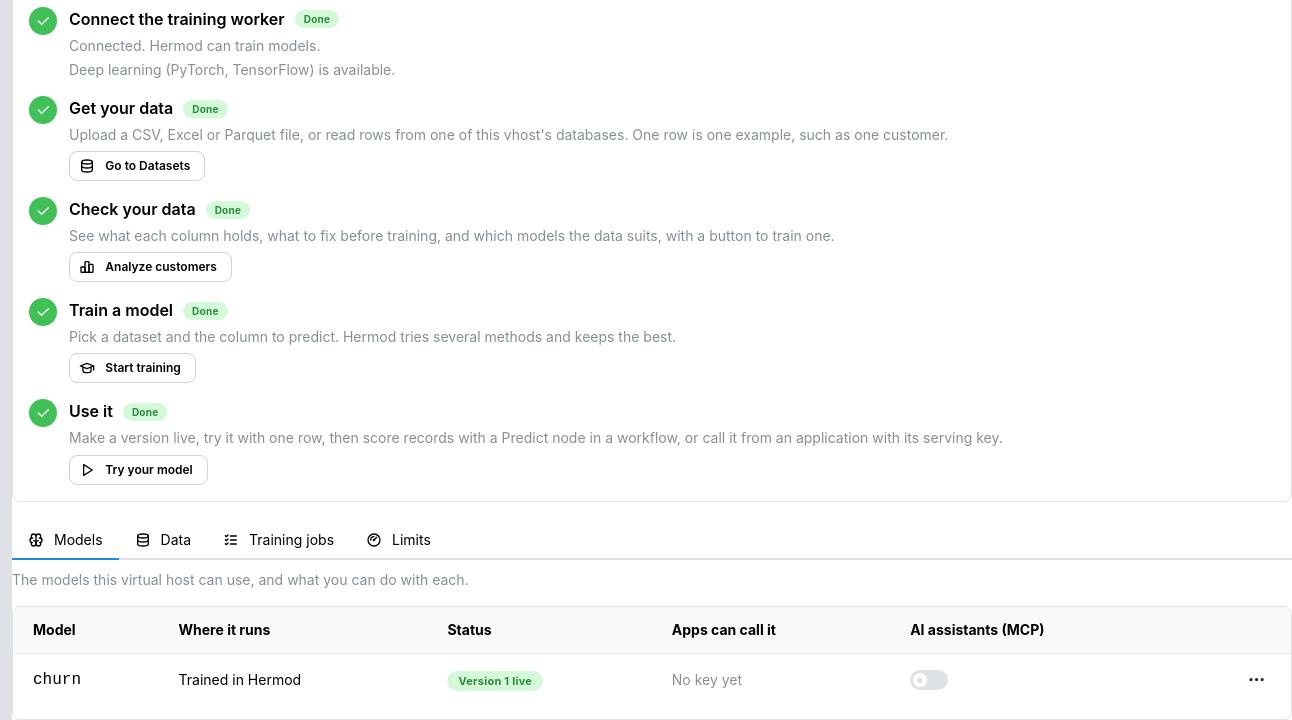
Test: Training on the Models page › lists the datasets and shows a trained model with its live version
(page scrolled)
Expected: the text "Version 1 live" is shown, x1=458 y1=672 x2=532 y2=690
Click the tab "Data".
click(163, 540)  # box x1=119 y1=522 x2=207 y2=560
(page scrolled)
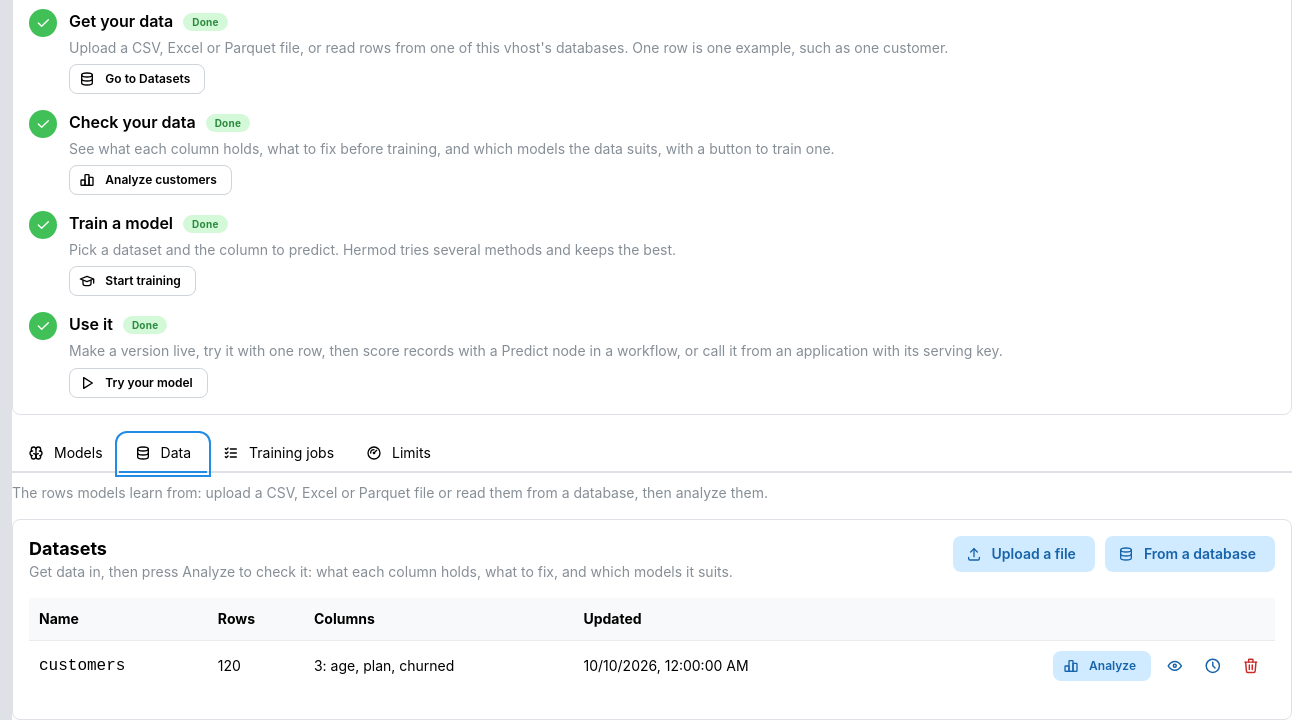
Expected: the text "customers" is shown, x1=39 y1=656 x2=125 y2=674
